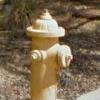Hydrant: (16, 6, 81, 100)
